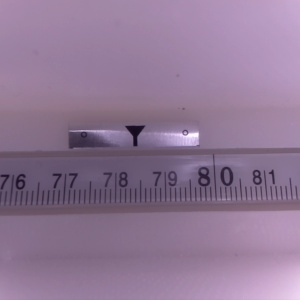0: (220, 167, 234, 187)
6: (15, 173, 26, 189)
7: (151, 171, 161, 187), (102, 172, 112, 188), (51, 173, 61, 189), (67, 173, 77, 189), (0, 174, 9, 190)
8: (197, 167, 210, 187), (118, 171, 128, 188), (253, 169, 262, 185)
9: (167, 171, 177, 187)
finger: (123, 125, 146, 147)
